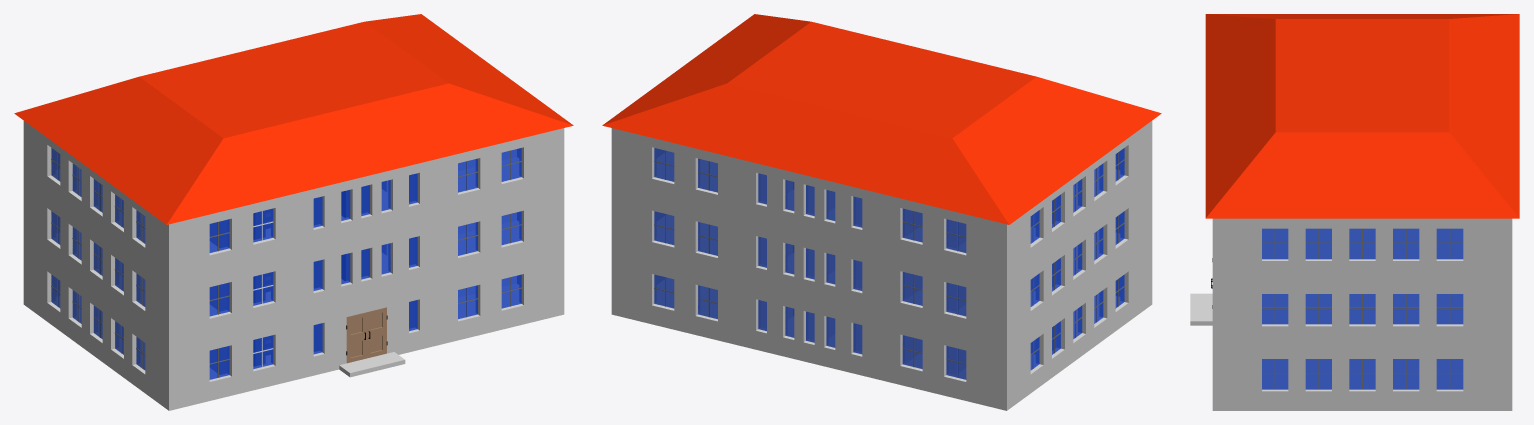
File: PilotBuilding_Office 1.fbx
The picture shows the model from 3 angles, left to right: view 1: azimuth 30°, elevation 25°; view 2: azimuth 150°, elevation 25°; view 3: azimuth 270°, elevation 25°; orthographic projection. The views are drawn at different scales.
Parts seen in each view (by area): view 1: Roof_2, NorthWall_2, NorthWall_3, NorthWall, EastWall, EastWall_2, EastWall_3, Floor_3, Floor_2, Floor, DoorEntrance, InnerWalls_20 (+6 smaller); view 2: Roof_2, SouthWall, SouthWall_2, SouthWall_3, EastWall, EastWall_2, EastWall_3, Floor, Floor_2, Floor_3, InnerWalls_11, InnerWalls_20 (+1 smaller); view 3: Roof_2, WestWall_2, WestWall, WestWall_3, Floor, Floor_3, Floor_2, Misc.
Boxes of the visible parts, bbox=[...] form: Roof_2: bbox=[14, 14, 573, 224]; NorthWall_2: bbox=[169, 188, 564, 343]; NorthWall_3: bbox=[169, 128, 564, 279]; NorthWall: bbox=[169, 251, 564, 406]; EastWall: bbox=[23, 241, 168, 406]; EastWall_2: bbox=[23, 178, 168, 342]; EastWall_3: bbox=[23, 121, 168, 279]; Floor_3: bbox=[23, 157, 564, 284]; Floor_2: bbox=[23, 220, 564, 347]; Floor: bbox=[23, 284, 564, 410]; DoorEntrance: bbox=[346, 307, 387, 363]; InnerWalls_20: bbox=[98, 149, 516, 247]; Roof_2: bbox=[602, 14, 1161, 224]; SouthWall: bbox=[611, 251, 1006, 406]; SouthWall_2: bbox=[611, 188, 1006, 343]; SouthWall_3: bbox=[611, 128, 1006, 279]; EastWall: bbox=[1007, 241, 1152, 406]; EastWall_2: bbox=[1007, 178, 1152, 342]; EastWall_3: bbox=[1007, 121, 1152, 279]; Floor: bbox=[611, 278, 1152, 410]; Floor_2: bbox=[611, 214, 1152, 347]; Floor_3: bbox=[611, 151, 1152, 284]; InnerWalls_11: bbox=[761, 237, 1056, 311]; InnerWalls_20: bbox=[761, 174, 1056, 247]; Roof_2: bbox=[1205, 14, 1519, 218]; WestWall_2: bbox=[1212, 280, 1512, 341]; WestWall: bbox=[1212, 346, 1512, 406]; WestWall_3: bbox=[1212, 218, 1512, 276]; Floor: bbox=[1212, 359, 1512, 410]; Floor_3: bbox=[1212, 229, 1512, 280]; Floor_2: bbox=[1212, 294, 1512, 345]; Misc: bbox=[1190, 293, 1212, 325].
Size of the model in its own units: 20.2 by 10.87 by 13.73.
